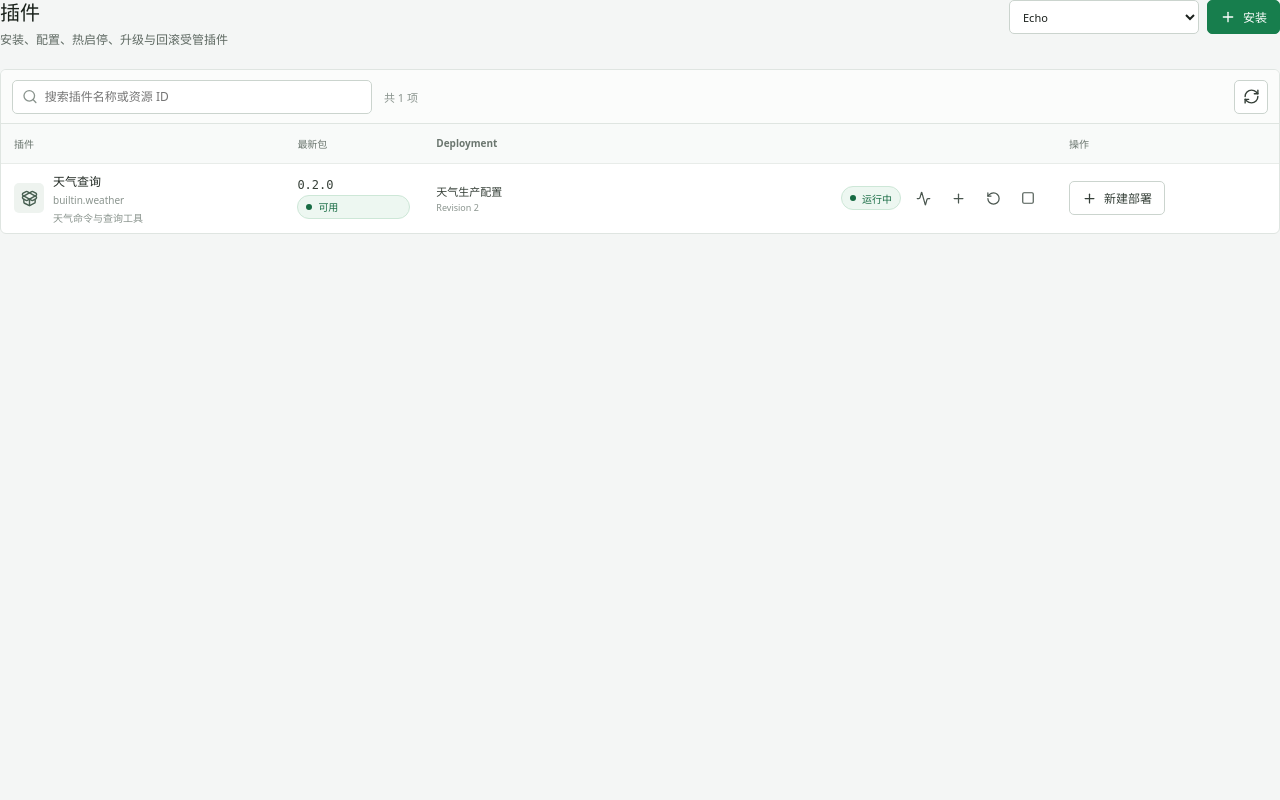
Test: PluginsView revision management › opens the revision switch dialog while the deployment is running
The image size is (1280, 800).
Click the button named "启动或回滚". click: (993,198)
box: [979, 184, 1008, 212]
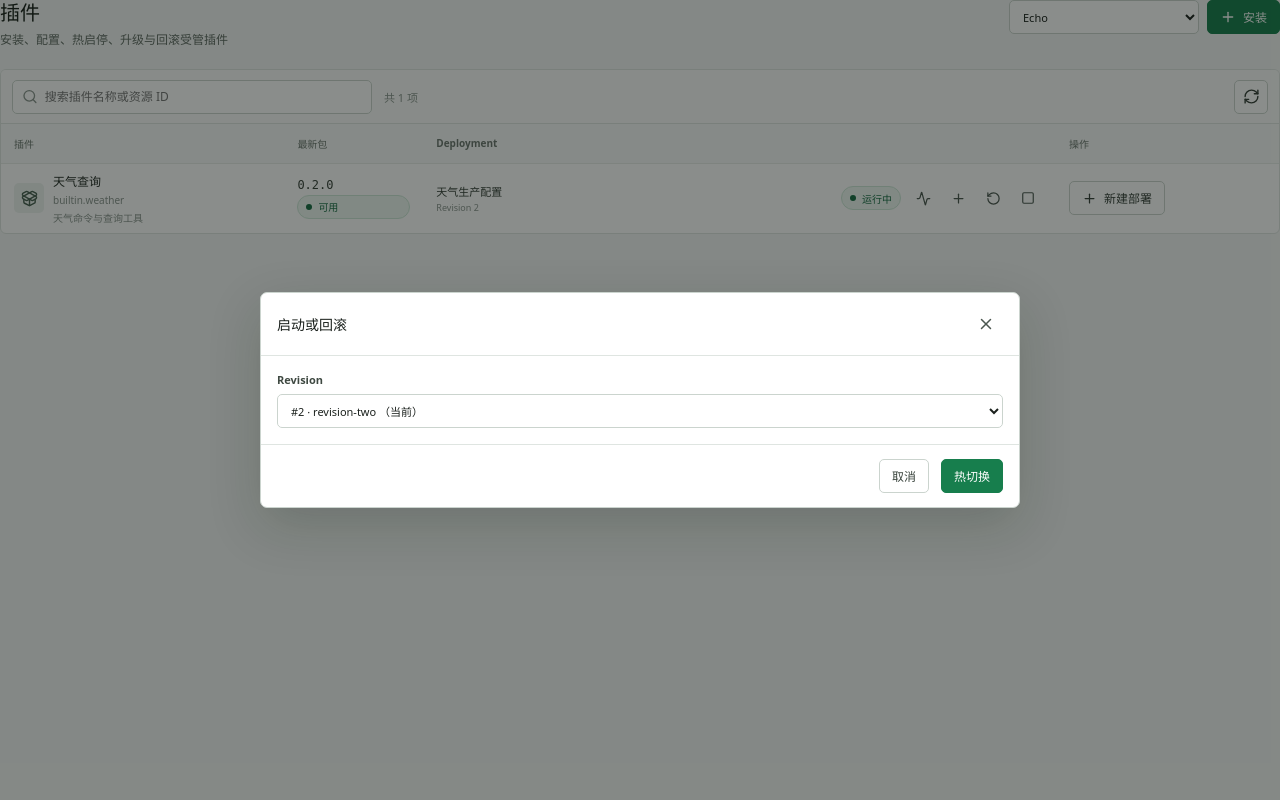
Expected: the dialog shows "启动或回滚", [277, 315, 347, 334]
Expected: the dropdown labelled "Revision" shows "#2 · revision-two （当前）", [277, 394, 1003, 428]
Expected: the submit button reads "热切换", [941, 459, 1003, 493]
